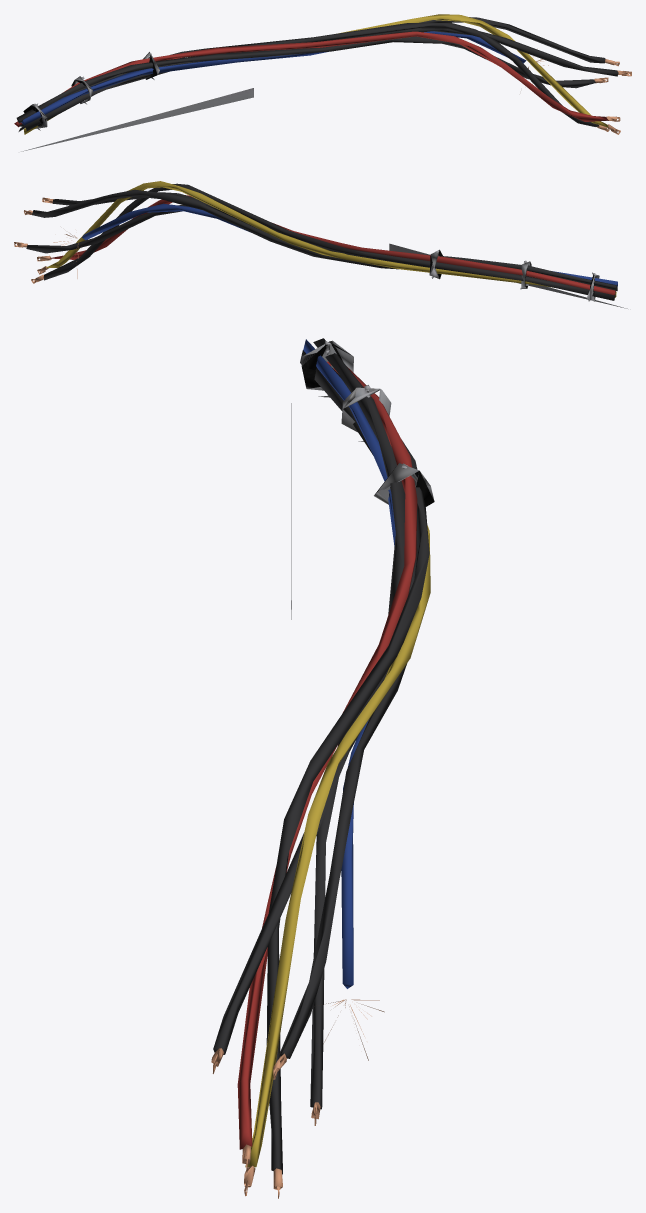
Rendered from industrial_cable_bundle_lod2.glb.
The picture shows the model from 3 angles, top to bottom: view 1: azimuth 30°, elevation 25°; view 2: azimuth 150°, elevation 25°; view 3: azimuth 270°, elevation 25°; orthographic projection. The views are drawn at different scales.
Parts seen in each view (by area): view 1: industrial_cable_bundle_rubber, industrial_cable_bundle_cable_red, industrial_cable_bundle_cable_blue, industrial_cable_bundle_paint, industrial_cable_bundle_cable_yellow, industrial_cable_bundle_copper; view 2: industrial_cable_bundle_rubber, industrial_cable_bundle_cable_yellow, industrial_cable_bundle_cable_red, industrial_cable_bundle_cable_blue, industrial_cable_bundle_paint, industrial_cable_bundle_copper; view 3: industrial_cable_bundle_rubber, industrial_cable_bundle_cable_yellow, industrial_cable_bundle_cable_red, industrial_cable_bundle_cable_blue, industrial_cable_bundle_paint, industrial_cable_bundle_copper.
Boxes of the visible parts, x1,y1,x2,y2 form: industrial_cable_bundle_rubber: (16,17,618,131); industrial_cable_bundle_cable_red: (14,31,608,127); industrial_cable_bundle_cable_blue: (21,31,526,125); industrial_cable_bundle_paint: (21,52,253,151); industrial_cable_bundle_cable_yellow: (23,14,608,134); industrial_cable_bundle_copper: (528,48,631,134); industrial_cable_bundle_rubber: (26,183,617,300); industrial_cable_bundle_cable_yellow: (46,181,616,297); industrial_cable_bundle_cable_red: (49,195,615,295); industrial_cable_bundle_cable_blue: (82,203,617,286); industrial_cable_bundle_paint: (389,243,627,308); industrial_cable_bundle_copper: (14,197,78,283); industrial_cable_bundle_rubber: (213,338,429,1174); industrial_cable_bundle_cable_yellow: (245,525,430,1167); industrial_cable_bundle_cable_red: (237,361,417,1149); industrial_cable_bundle_cable_blue: (303,339,395,988); industrial_cable_bundle_paint: (291,340,434,619); industrial_cable_bundle_copper: (211,999,384,1198).
Size of the model in its own units: 3.03 by 0.7795 by 0.4897.
7 materials, 1 textured.
